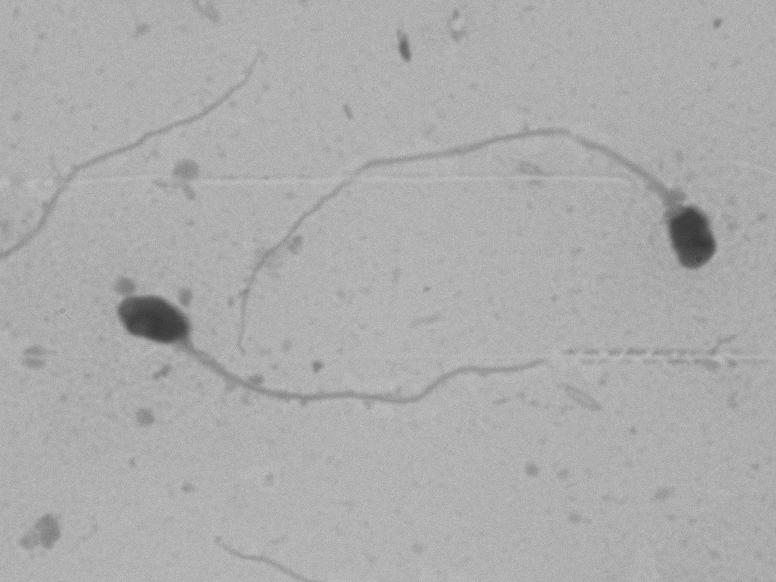Abnormal: (225, 104, 735, 334), (104, 270, 559, 434)
